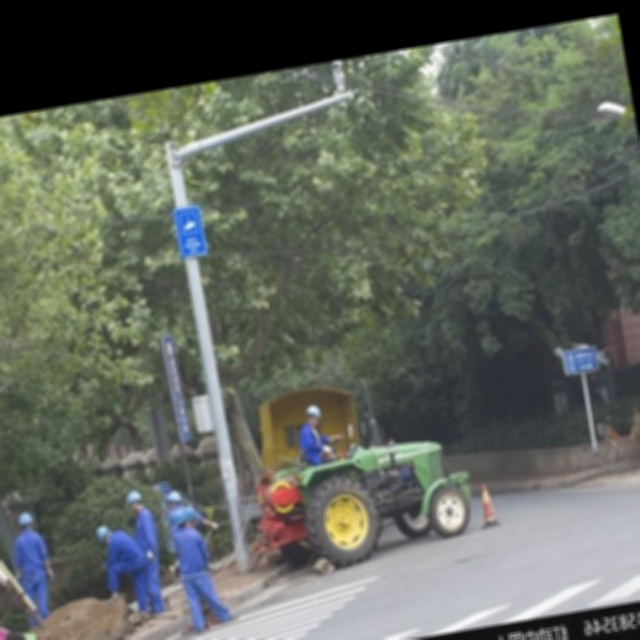Con_Casco: (304, 403, 325, 427), (123, 490, 143, 515), (15, 510, 36, 533), (93, 524, 112, 548), (163, 489, 183, 509)
